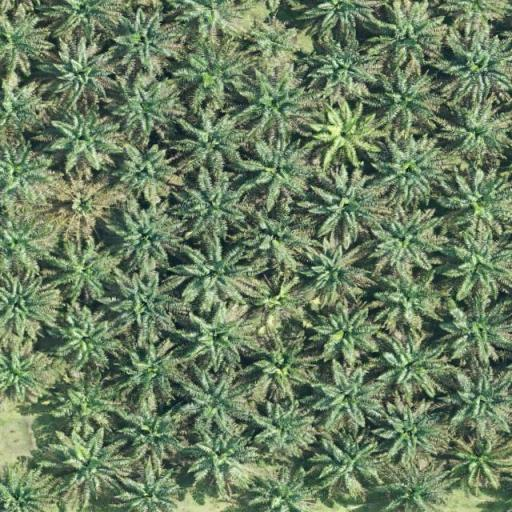Ganoderma: (61, 186, 104, 222), (326, 117, 363, 152)
